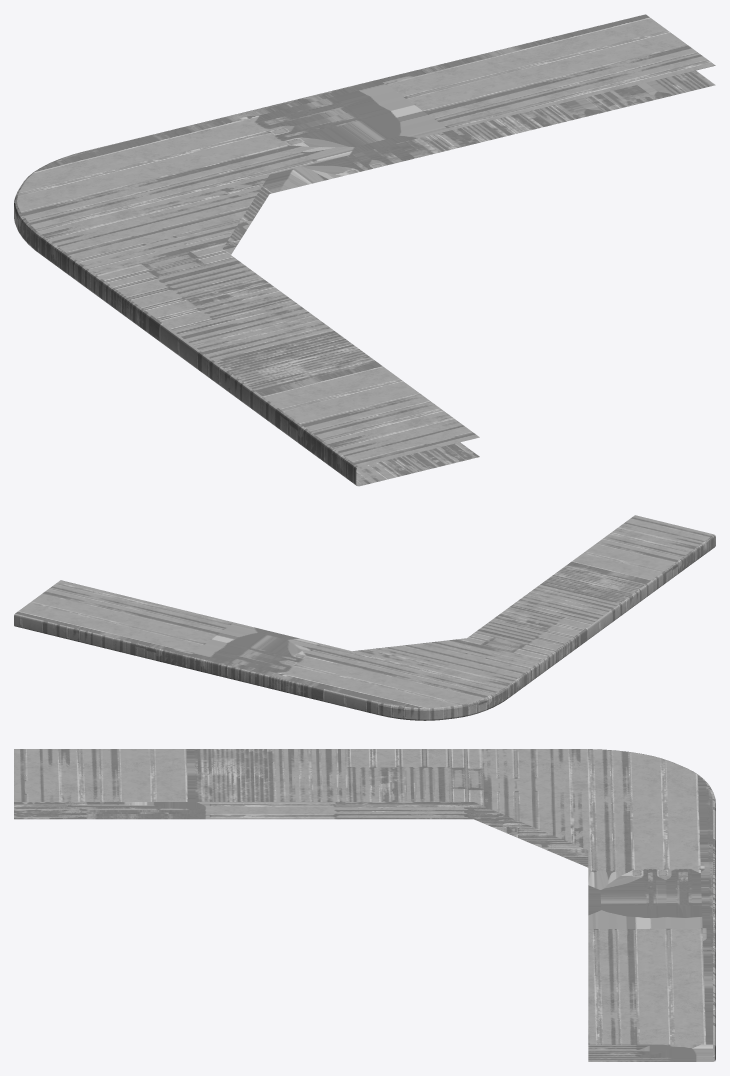
File: SM_Building04_Canopy2R.fbx
3 views of the same model, one above another, from view 1: azimuth 30°, elevation 25°; view 2: azimuth 150°, elevation 25°; view 3: azimuth 270°, elevation 25° (orthographic). The views are drawn at different scales.
Visible parts, largest first — view 1: SM_Building04_Canopy2R_LOD0; view 2: SM_Building04_Canopy2R_LOD0; view 3: SM_Building04_Canopy2R_LOD0.
Boxes of the visible parts, x1=… form: SM_Building04_Canopy2R_LOD0: x1=14, y1=14, x2=715, y2=486; SM_Building04_Canopy2R_LOD0: x1=14, y1=515, x2=715, y2=720; SM_Building04_Canopy2R_LOD0: x1=14, y1=749, x2=715, y2=1061.
Bounding box in the file's own units: 550 × 550 × 15.35.
